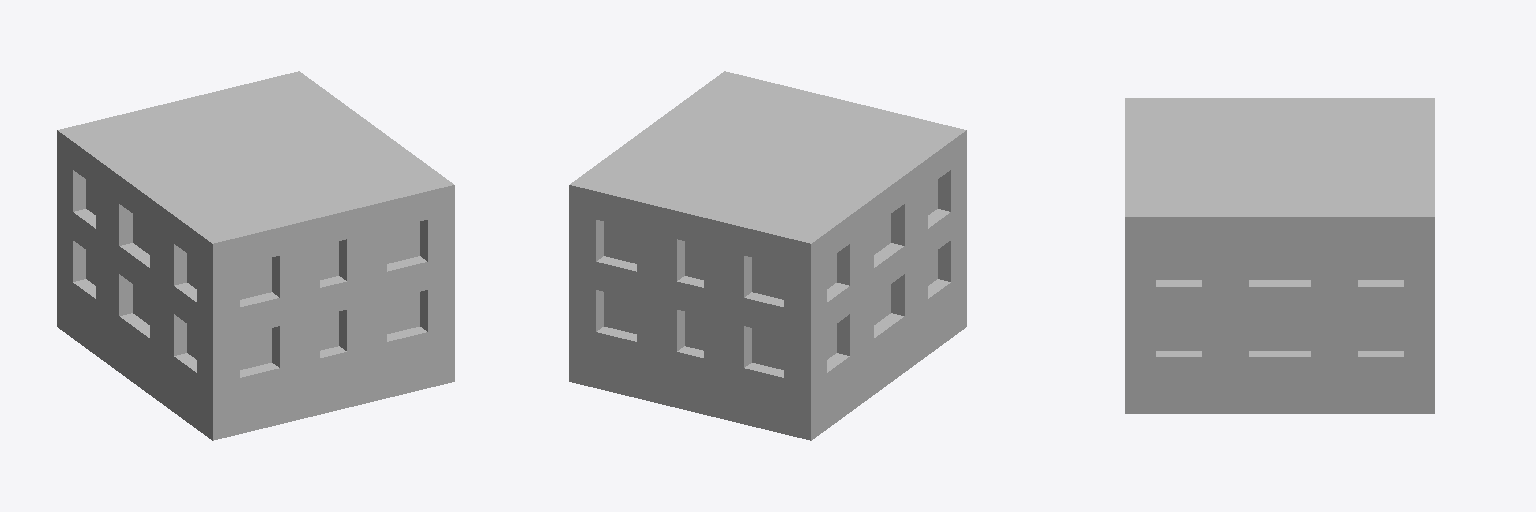
The model's file is Building 6.obj.
3 renders of one model, left to right at view 1: azimuth 30°, elevation 25°; view 2: azimuth 150°, elevation 25°; view 3: azimuth 270°, elevation 25°, orthographic.
Visible parts, largest first — view 1: object 1; view 2: object 1; view 3: object 1.
Boxes of the visible parts, x1,y1,x2,y2 form: object 1: [57, 71, 454, 440]; object 1: [569, 71, 966, 440]; object 1: [1125, 98, 1434, 413].
Bounding box in the file's own units: 1.8 × 1.4 × 2.